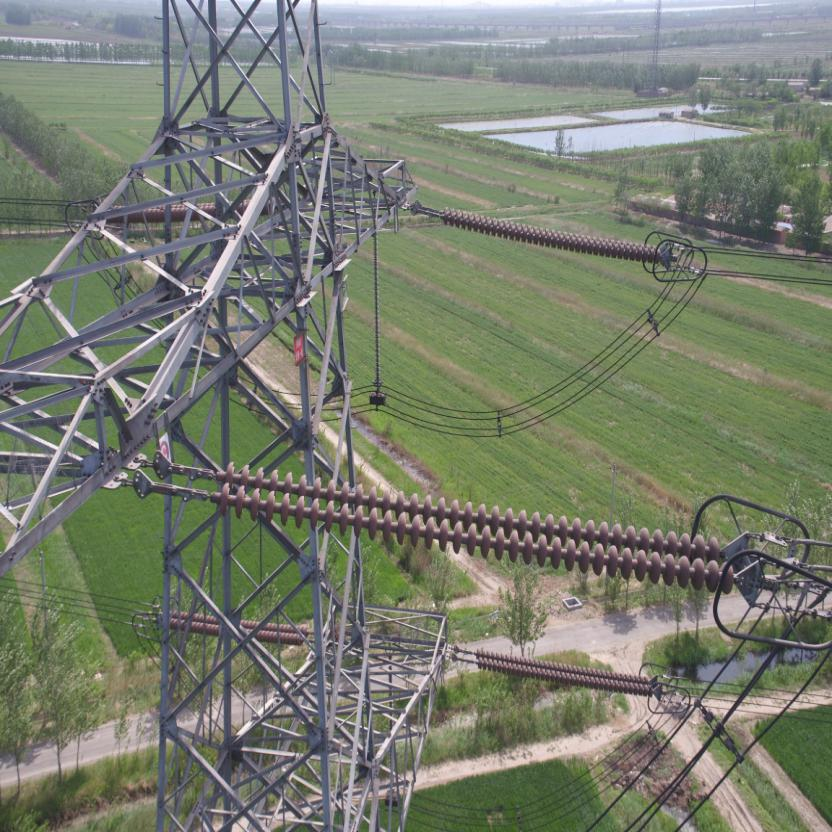insulator: (187, 457, 746, 596), (427, 203, 665, 266), (464, 646, 658, 697)
